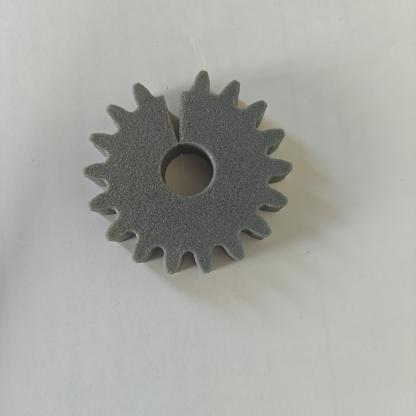defect: (115, 68, 237, 163)
gear: (76, 55, 299, 286)
